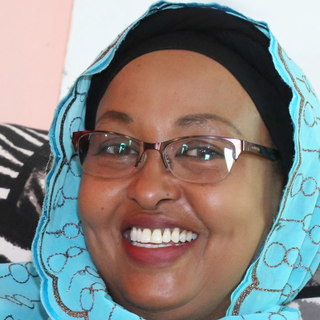eye: (176, 143, 224, 164), (96, 140, 139, 162)
